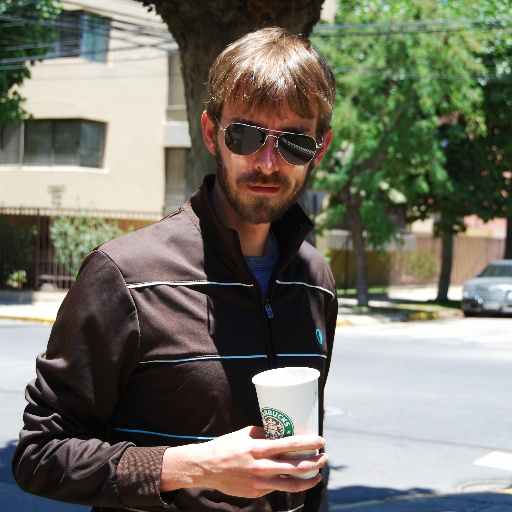hand: (173, 425, 340, 492)
